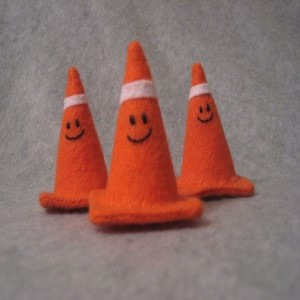traffic cone: (90, 40, 203, 223), (39, 66, 119, 211), (173, 62, 254, 198)
